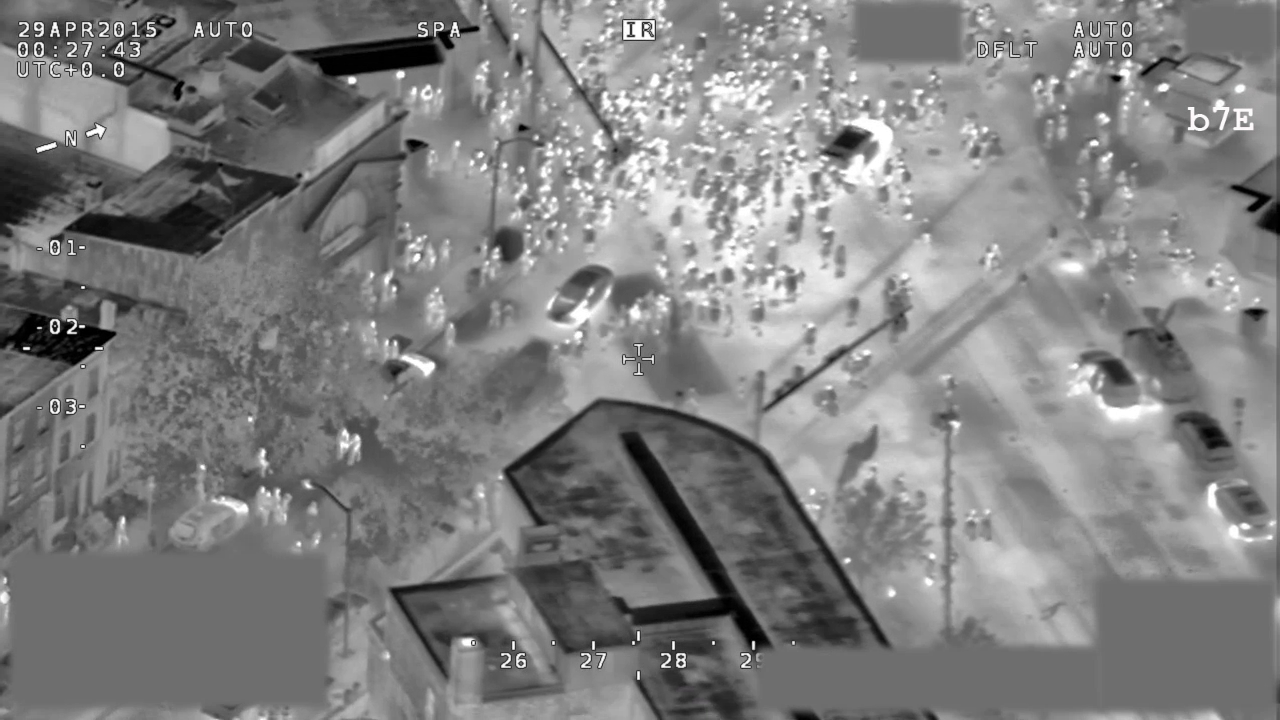vehicle: (1118, 296, 1210, 405), (813, 115, 900, 187), (164, 483, 258, 549), (1201, 473, 1280, 549), (542, 259, 621, 332), (366, 337, 436, 415), (1069, 343, 1146, 413), (1171, 406, 1243, 479)
